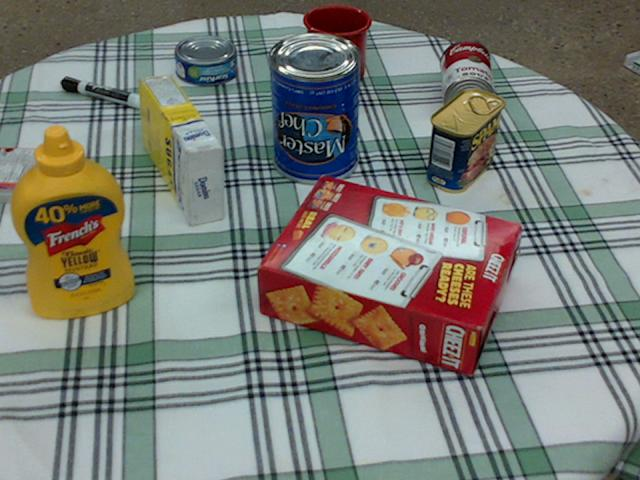cracker_box: (259, 175, 520, 375)
gelatin_box: (0, 148, 63, 204)
large_marker: (61, 76, 145, 108)
master_chef_can: (268, 33, 360, 183)
mug: (303, 5, 372, 85)
mustard_bottle: (10, 125, 133, 316)
potted_meat_can: (426, 89, 502, 192)
sugar_box: (138, 74, 223, 224)
tomato_soup_can: (440, 40, 493, 121)
tuna_fish_can: (174, 35, 237, 84)
